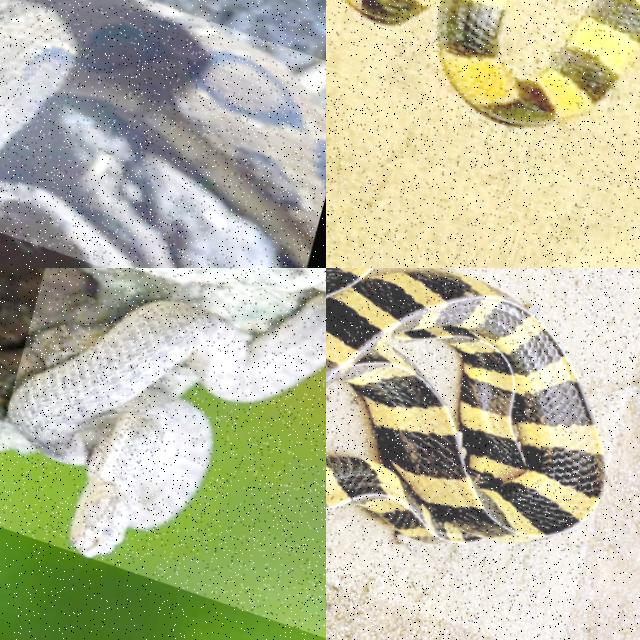Bungarus fasciatus: (326, 268, 604, 543), (436, 0, 639, 126)
Daboia siamensis: (0, 0, 325, 265)
Ovophis monticola: (7, 293, 325, 555)
snake: (0, 0, 325, 265), (7, 293, 325, 555), (326, 268, 604, 543), (436, 0, 639, 126)
